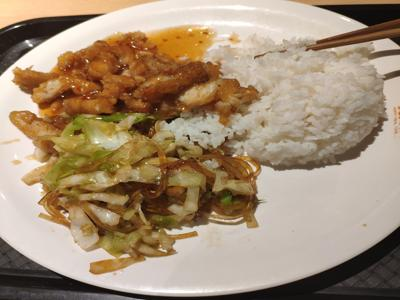rice: (221, 26, 381, 176)
